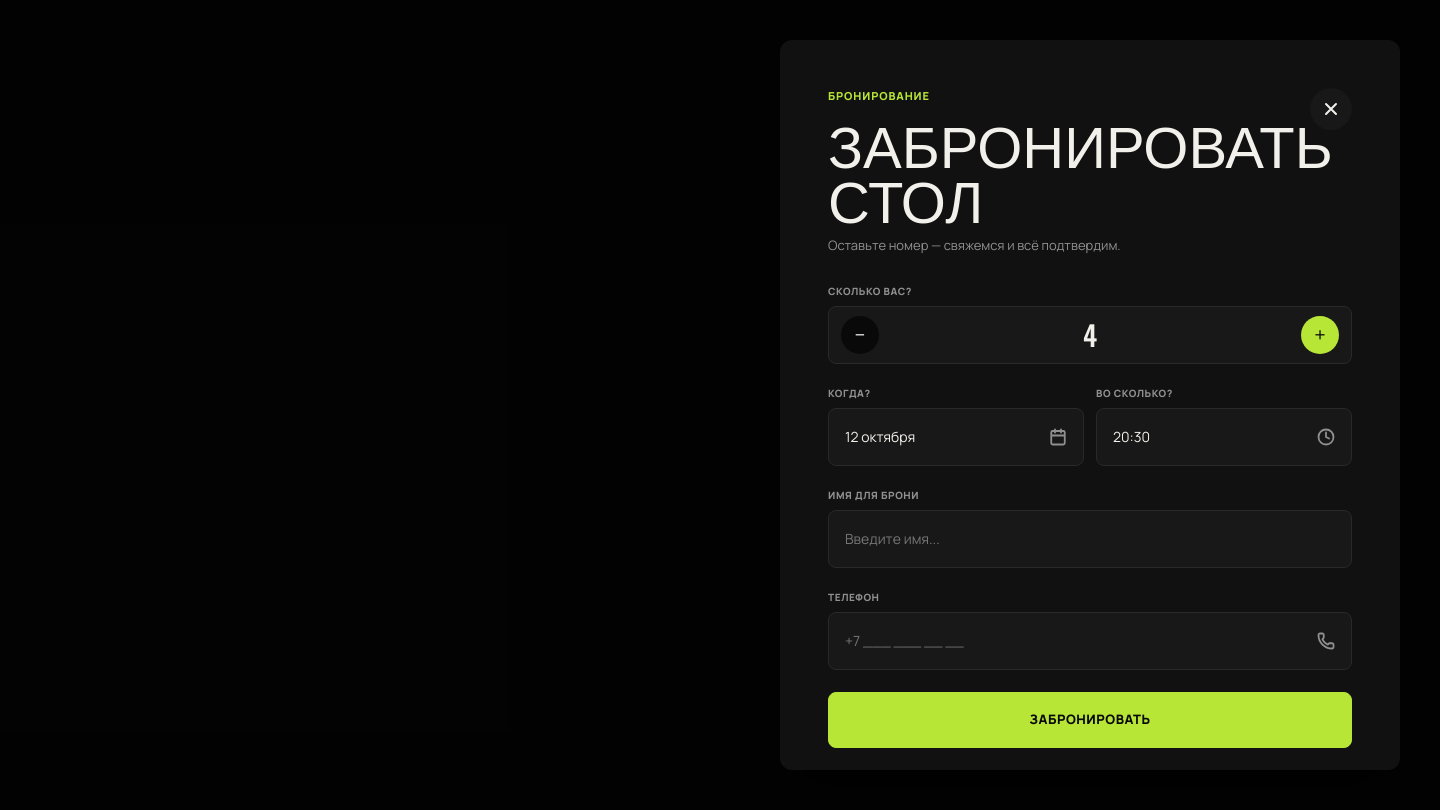
Test: BookingModal › показывает ошибку, если телефон не заполнен
Click the button "ЗАБРОНИРОВАТЬ" at (1090, 720), box [828, 692, 1352, 748]
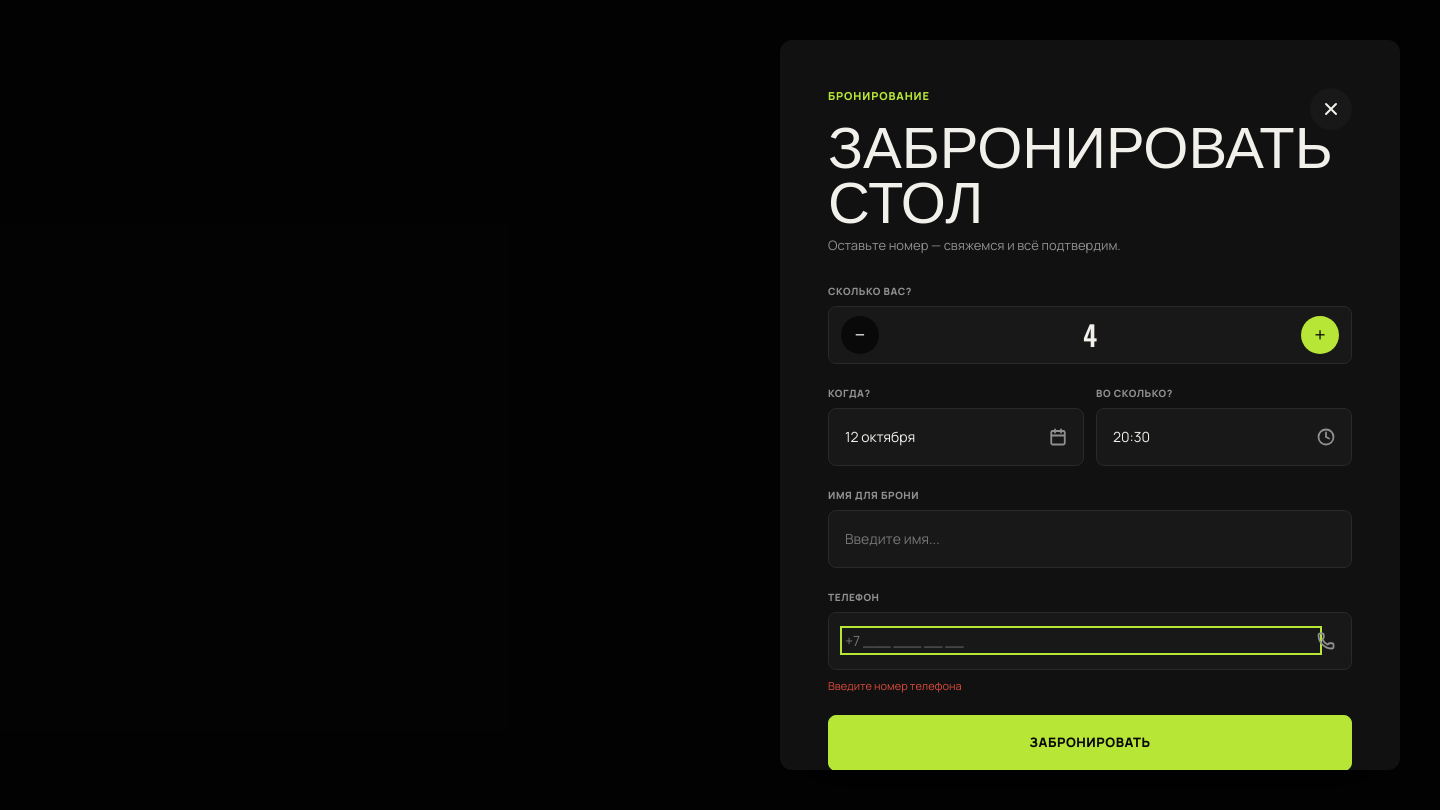
Now the text "Введите номер телефона" is shown, box [828, 678, 962, 692]
